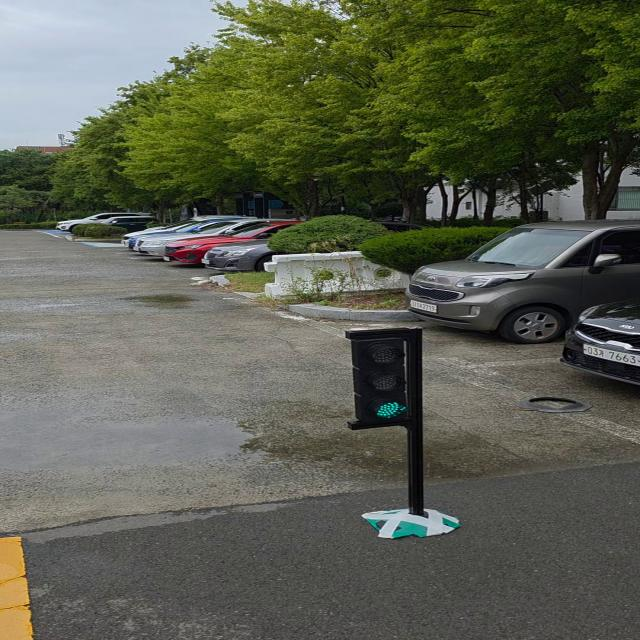green: (352, 333, 420, 427)
